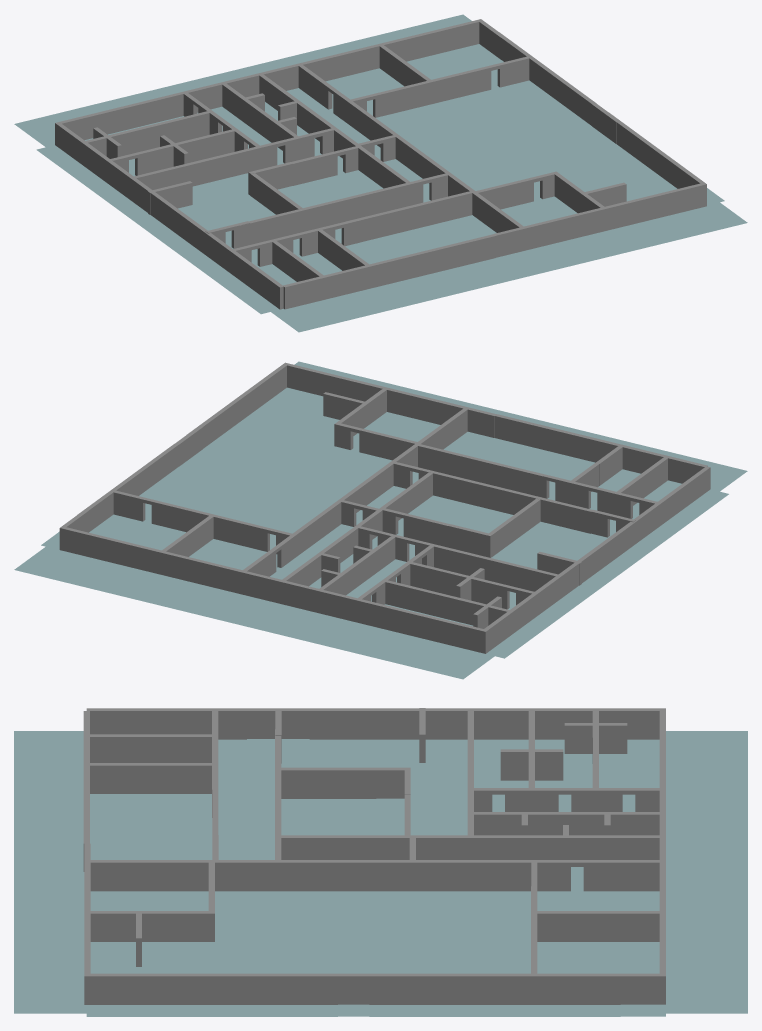
File: Another level.fbx
3 views of the same model, one above another, from view 1: azimuth 30°, elevation 25°; view 2: azimuth 150°, elevation 25°; view 3: azimuth 270°, elevation 25° (orthographic). The views are drawn at different scales.
Parts seen in each view (by area): view 1: SM_Muur_Floor1, SM_Muur_Reg30, SM_Muur_Reg28, SM_Muur_Reg23, SM_Muur_Reg122, SM_Muur_Reg27, SM_Muur_Reg127, SM_Muur_Reg29, SM_Muur_Reg21, SM_Muur_Reg128, SM_Muur_Reg22, SM_Muur_Reg24 (+80 smaller); view 2: SM_Muur_Floor1, SM_Muur_Reg10, SM_Muur_Reg5, SM_Muur_Reg6, SM_Muur_Reg3, SM_Muur_Reg4, SM_Muur_Reg2, SM_Muur_Reg124, SM_Muur_Reg9, SM_Muur_Reg28, SM_Muur_Reg27, SM_Muur_Reg165 (+79 smaller); view 3: SM_Muur_Floor1, SM_Muur_Reg17, SM_Muur_Reg169, SM_Muur_Reg20, SM_Muur_Reg14, SM_Muur_Reg19, SM_Muur_Reg13, SM_Muur_Reg12, SM_Muur_Reg94, SM_Muur_Reg11, SM_Muur_Reg95, SM_Muur_Reg16 (+91 smaller).
Part boxes in pixels (box(x1,y1,x2,y2)): SM_Muur_Floor1: box(14, 14, 747, 332); SM_Muur_Reg30: box(283, 275, 337, 317); SM_Muur_Reg28: box(409, 244, 463, 286); SM_Muur_Reg23: box(536, 213, 590, 255); SM_Muur_Reg122: box(388, 201, 442, 242); SM_Muur_Reg27: box(451, 234, 506, 275); SM_Muur_Reg127: box(430, 70, 484, 111); SM_Muur_Reg29: box(325, 265, 379, 306); SM_Muur_Reg21: box(368, 255, 421, 296); SM_Muur_Reg128: box(388, 80, 442, 121); SM_Muur_Reg22: box(494, 223, 548, 265); SM_Muur_Reg24: box(620, 193, 674, 233); SM_Muur_Floor1: box(14, 361, 747, 679); SM_Muur_Reg10: box(222, 568, 276, 610); SM_Muur_Reg5: box(264, 578, 319, 620); SM_Muur_Reg6: box(137, 548, 192, 589); SM_Muur_Reg3: box(349, 599, 403, 641); SM_Muur_Reg4: box(307, 589, 360, 630); SM_Muur_Reg2: box(392, 609, 445, 651); SM_Muur_Reg124: box(433, 620, 488, 661); SM_Muur_Reg9: box(180, 558, 234, 600); SM_Muur_Reg28: box(526, 424, 580, 465); SM_Muur_Reg27: box(485, 414, 538, 455); SM_Muur_Reg165: box(324, 422, 378, 464); SM_Muur_Floor1: box(14, 731, 747, 1013); SM_Muur_Reg17: box(149, 973, 212, 1016); SM_Muur_Reg169: box(281, 767, 344, 810); SM_Muur_Reg20: box(86, 973, 149, 1016); SM_Muur_Reg14: box(557, 973, 620, 1016); SM_Muur_Reg19: box(212, 973, 274, 1016); SM_Muur_Reg13: box(432, 973, 494, 1016); SM_Muur_Reg12: box(369, 973, 431, 1016); SM_Muur_Reg94: box(432, 860, 494, 903); SM_Muur_Reg11: box(495, 973, 557, 1016); SM_Muur_Reg95: box(369, 860, 431, 903); SM_Muur_Reg16: box(275, 973, 337, 1016).
Bounding box in the file's own units: 5497 × 255 × 5841.
